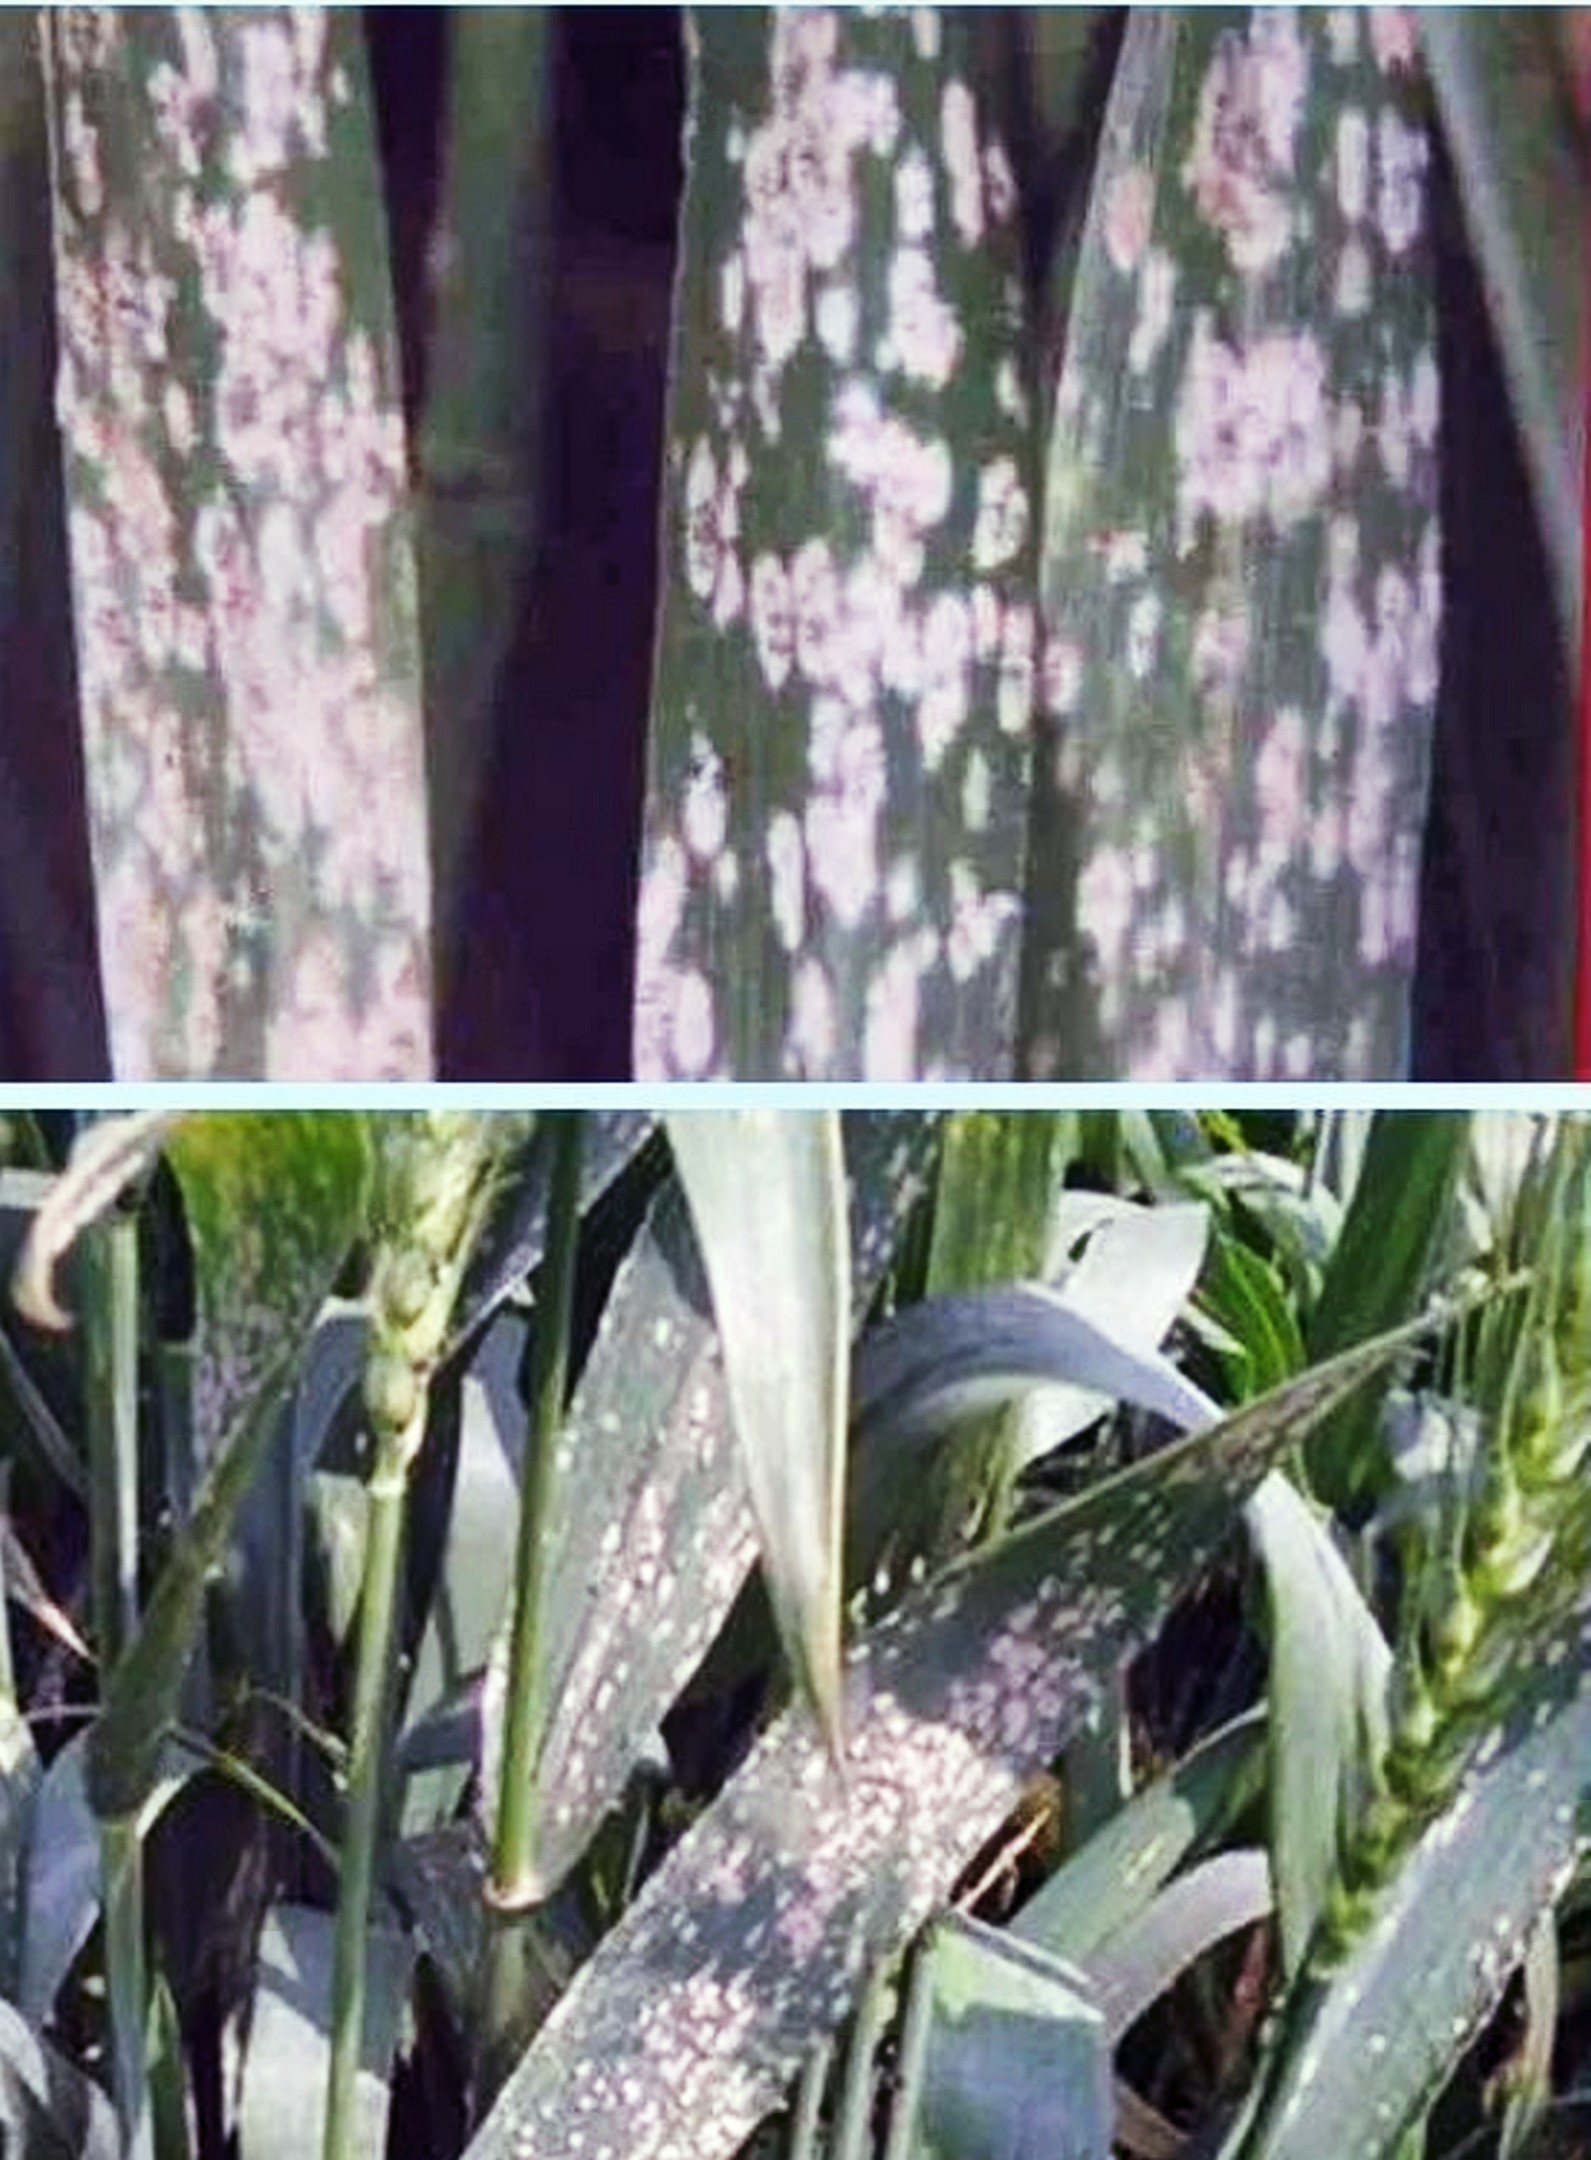Powdery Mildew: (585, 87, 1051, 1067), (644, 1550, 1152, 2133)
